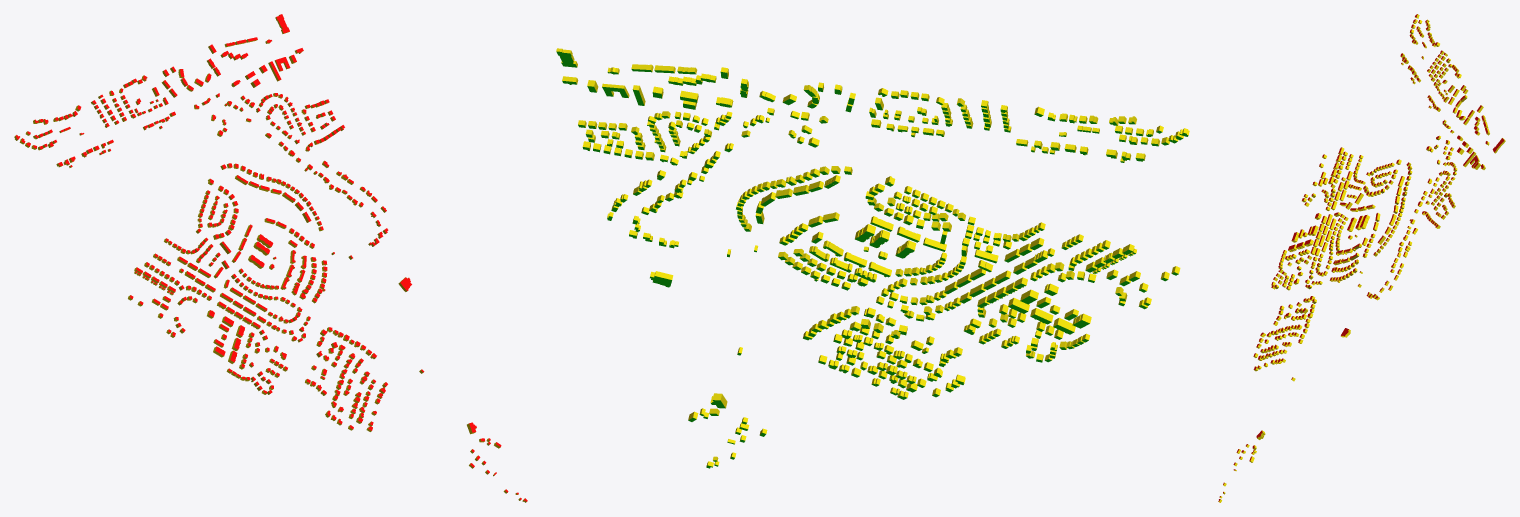
The picture shows the model from 3 angles, left to right: view 1: azimuth 30°, elevation 25°; view 2: azimuth 150°, elevation 25°; view 3: azimuth 270°, elevation 25°; orthographic projection. The views are drawn at different scales.
Visible parts, largest first — view 1: mesh; view 2: mesh; view 3: mesh.
Boxes of the visible parts, box(x1,y1,x2,y2) form: mesh: box(14, 14, 527, 502); mesh: box(556, 48, 1189, 468); mesh: box(1218, 14, 1505, 502).
Size of the model in its own units: 1842 by 1711 by 1349.
